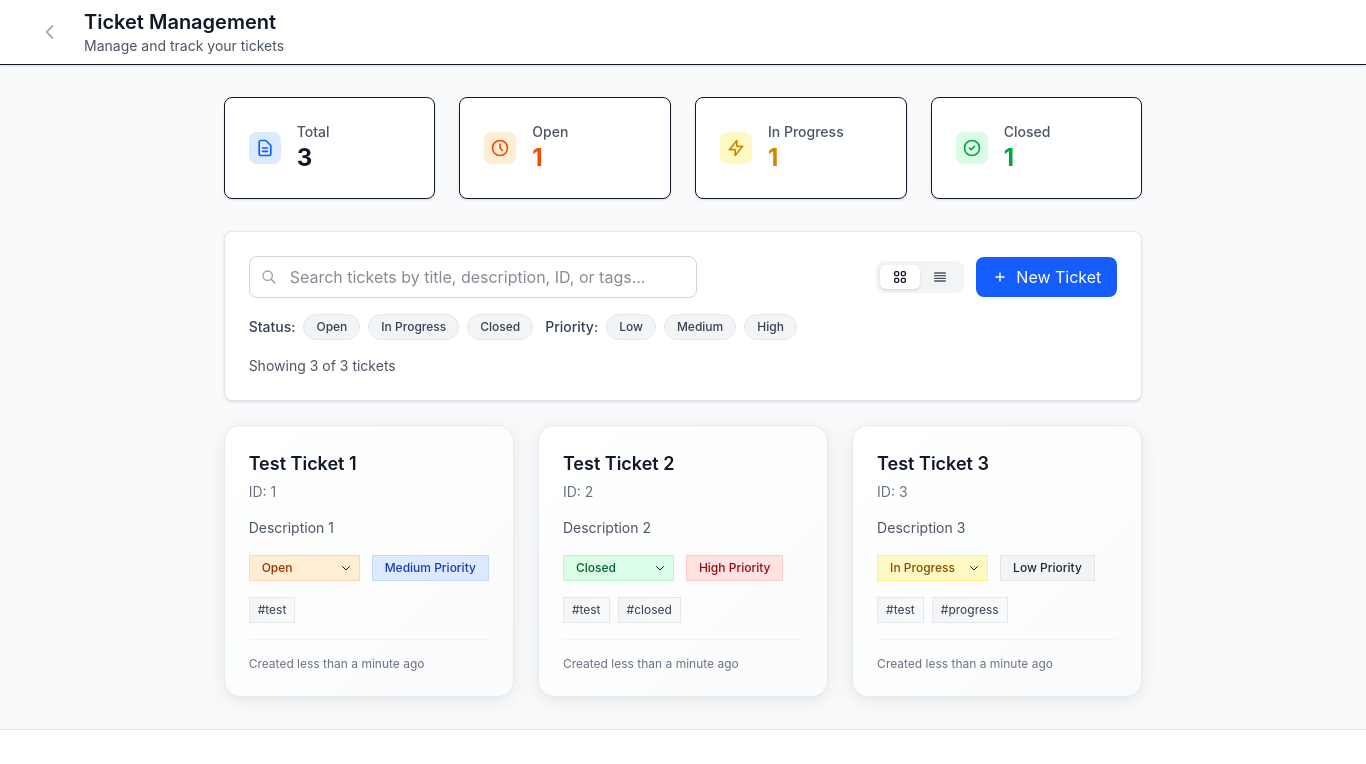
Test: Ticket CRUD Integration › Ticket Creation › validates required fields when creating ticket
# Click create ticket button
What coordinates should you click on to do the following:
click the button "New Ticket"
I would click on:
 (1047, 277)
Its box is [976,257,1117,297].
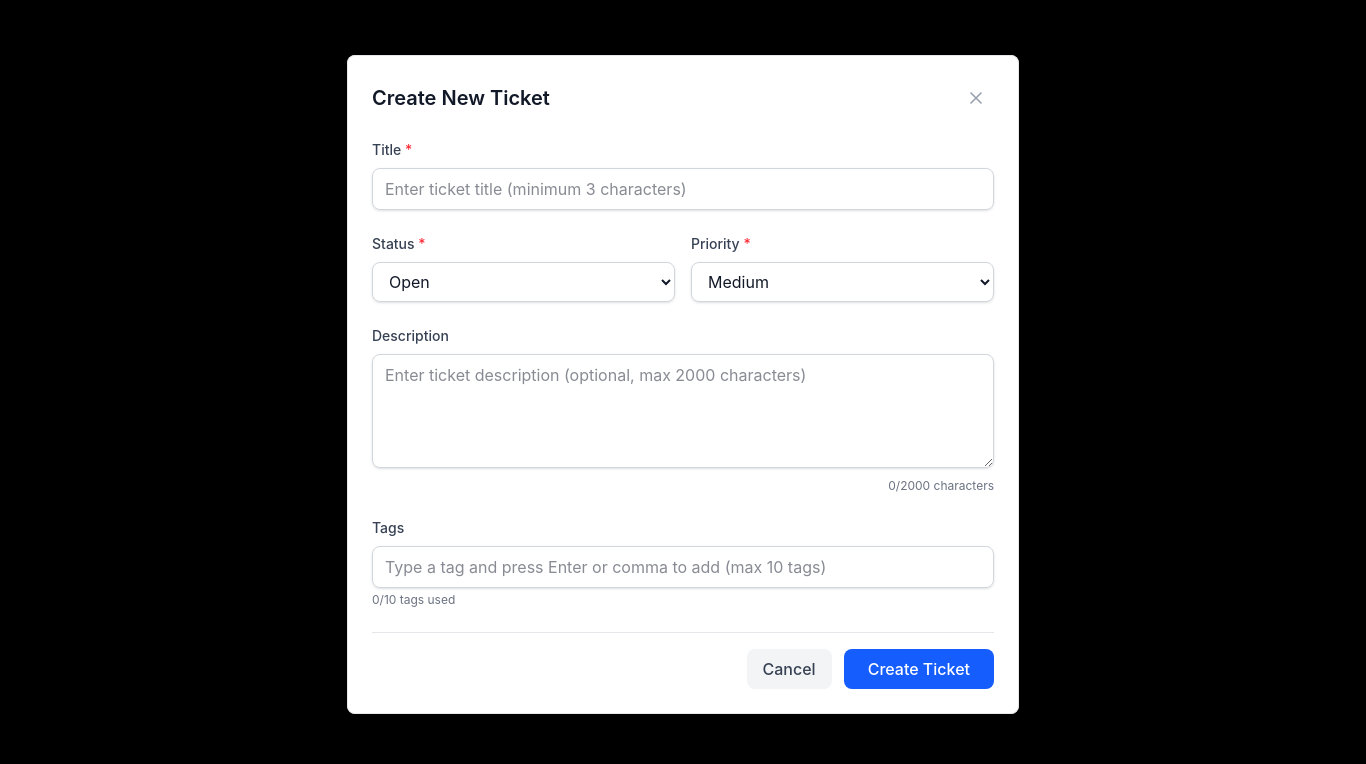
# Try to submit without filling required fields
What coordinates should you click on to do the following:
click the button "Create Ticket"
I would click on:
 (919, 668)
Its box is [844,648,994,688].
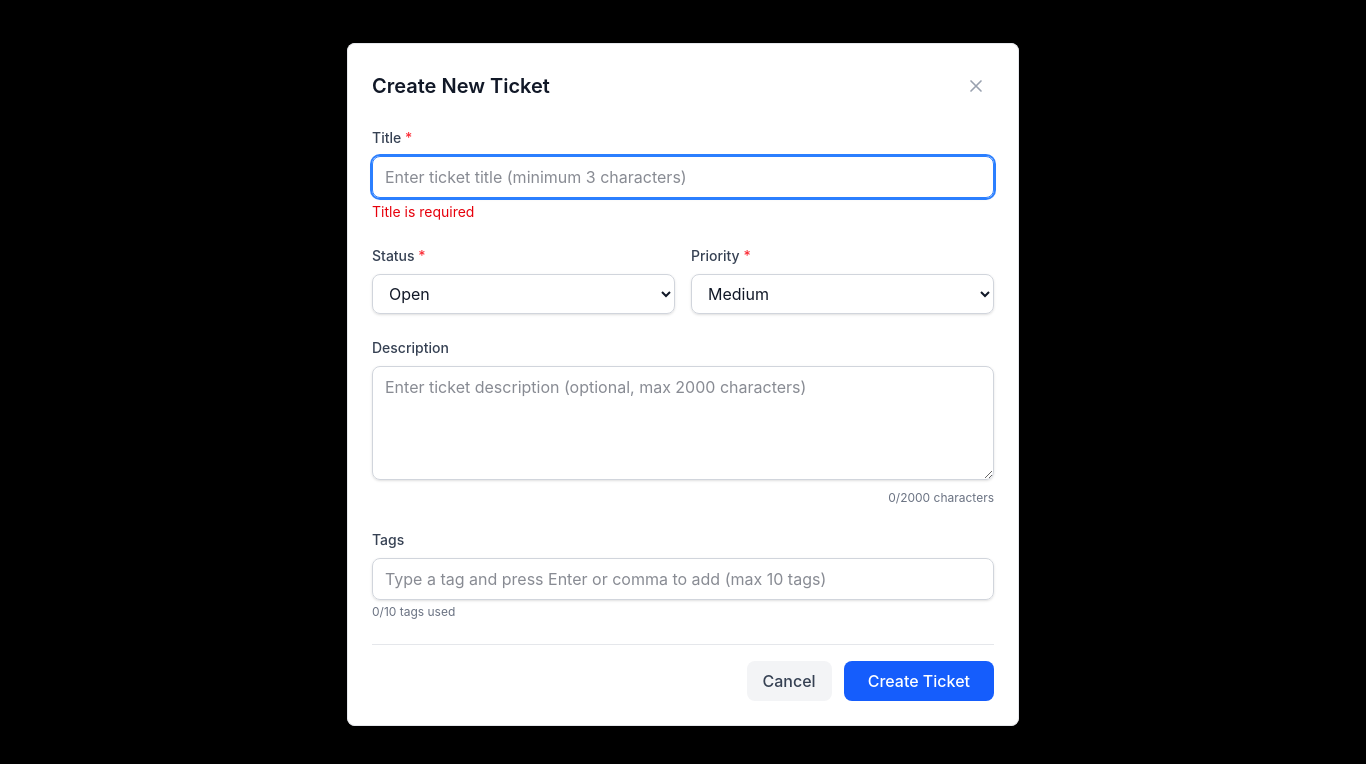
Check: the text "Title is required" is shown, box [372,202,474,220]
